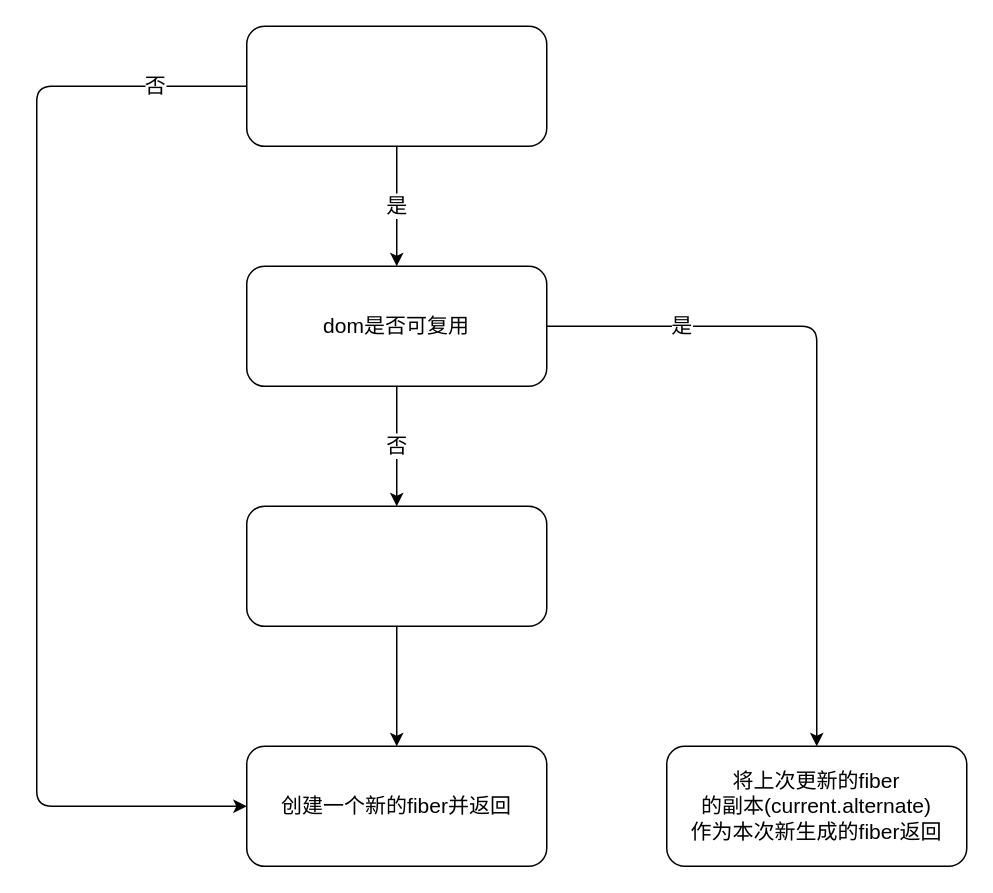
Image size: 993x893. Some labels were removed from this diagram. The shapes that lost their labels are listed below. From the top down, each one's centre as x and y in pixels, then its label:
the point at 396,85: 上次更新时的fiber(current) 是否存在对应的dom
the point at 396,565: 标记dom需要被删除
